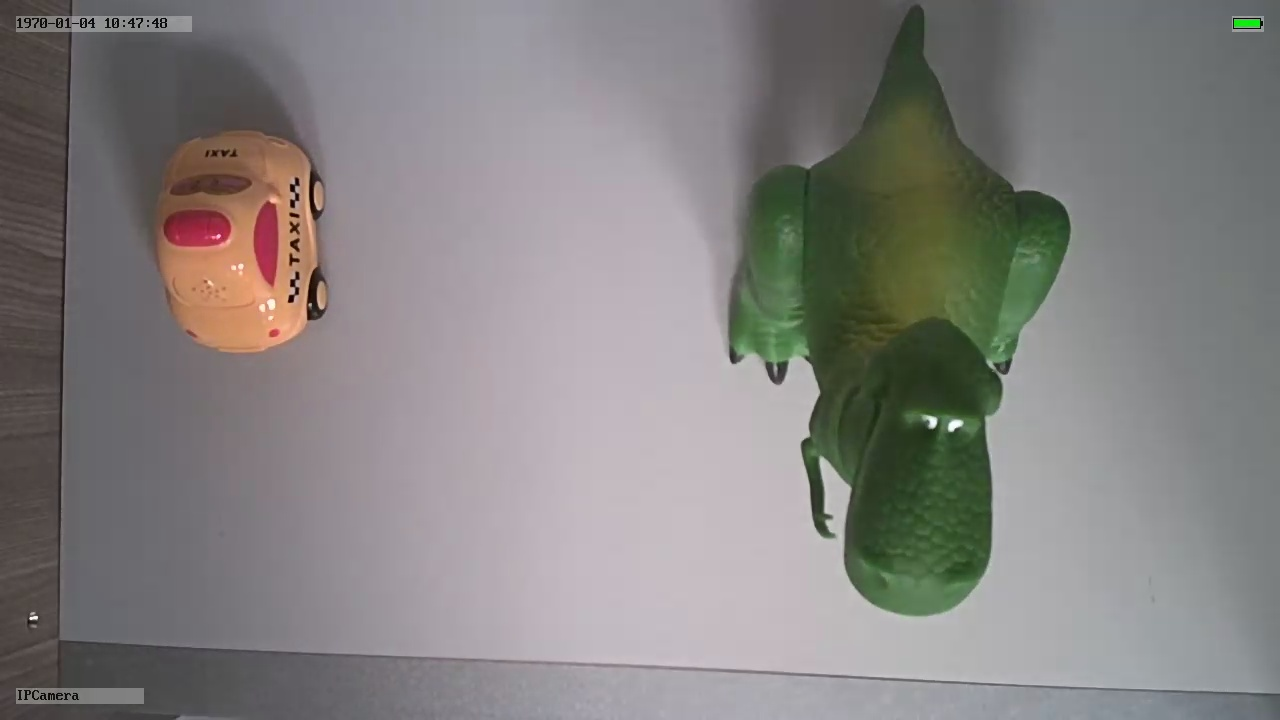car: (148, 123, 331, 358)
rex: (726, 80, 1073, 619)
